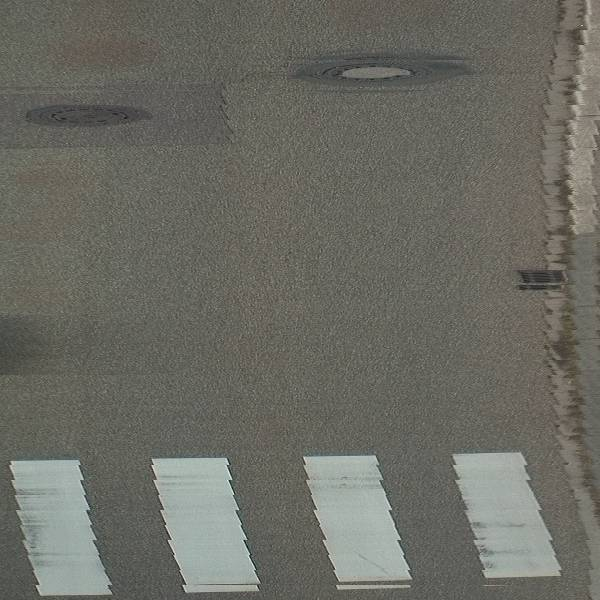road_damage: (1, 71, 257, 162), (284, 47, 484, 96)
